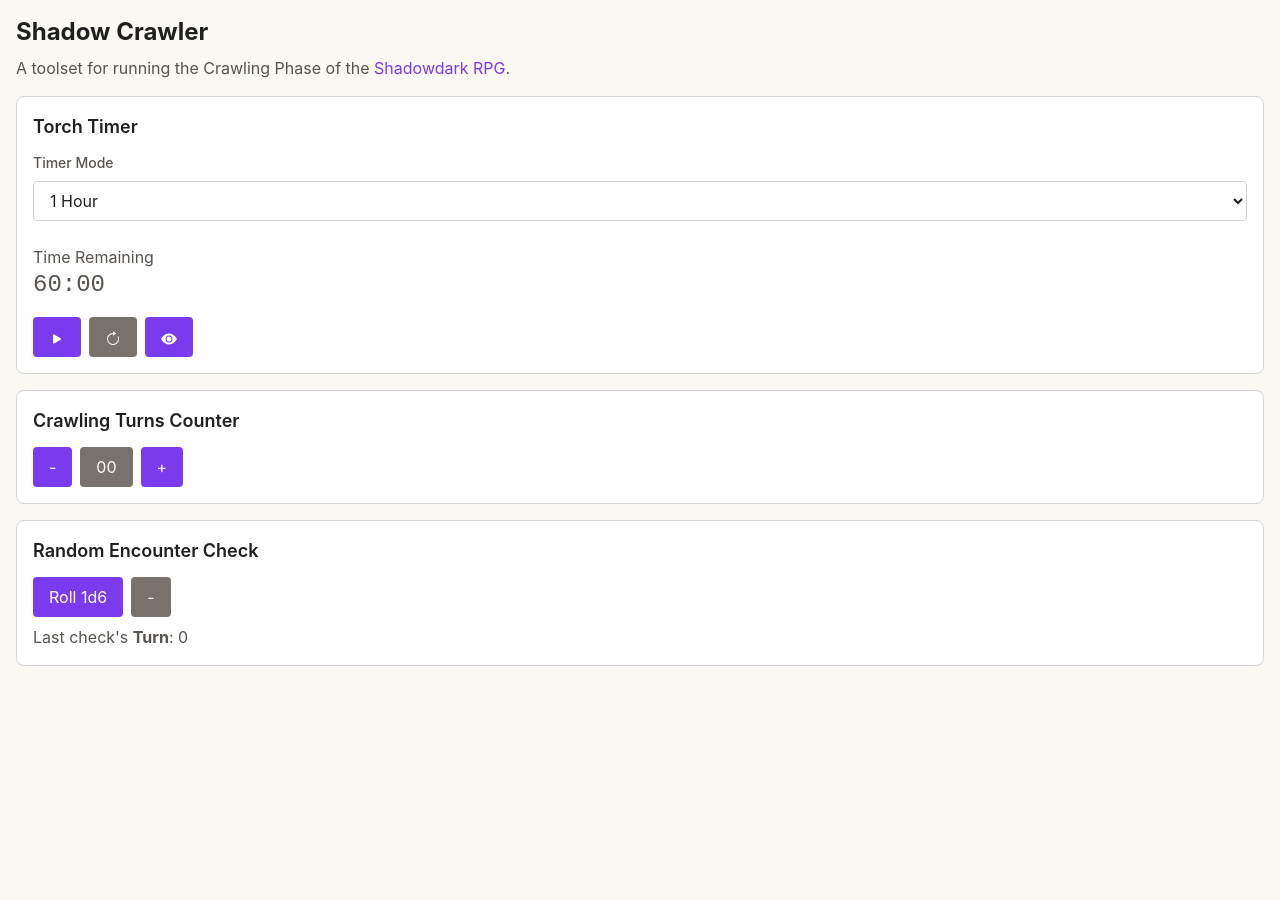
Test case: Main (Shadow Crawler) › changes mode to 10 Turns and increments torch turn
Select "10-turns" in the dropdown at (640, 201), box [33,181,1247,221]
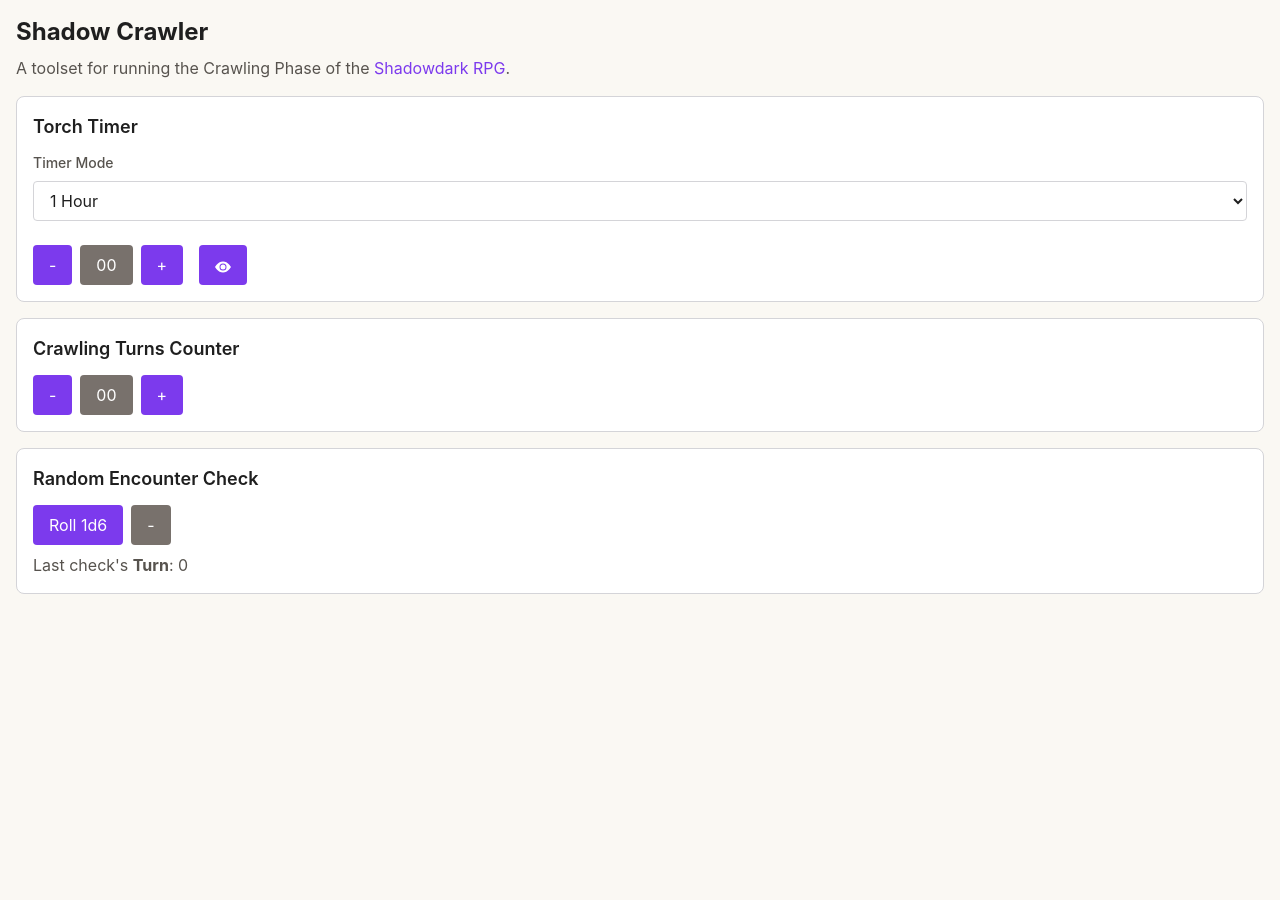
Check: the number of buttons "+" is 2
Note: Click the Torch Turn +
Click the button "+" below "Timer Mode" at (162, 265), box [140,245,183,285]
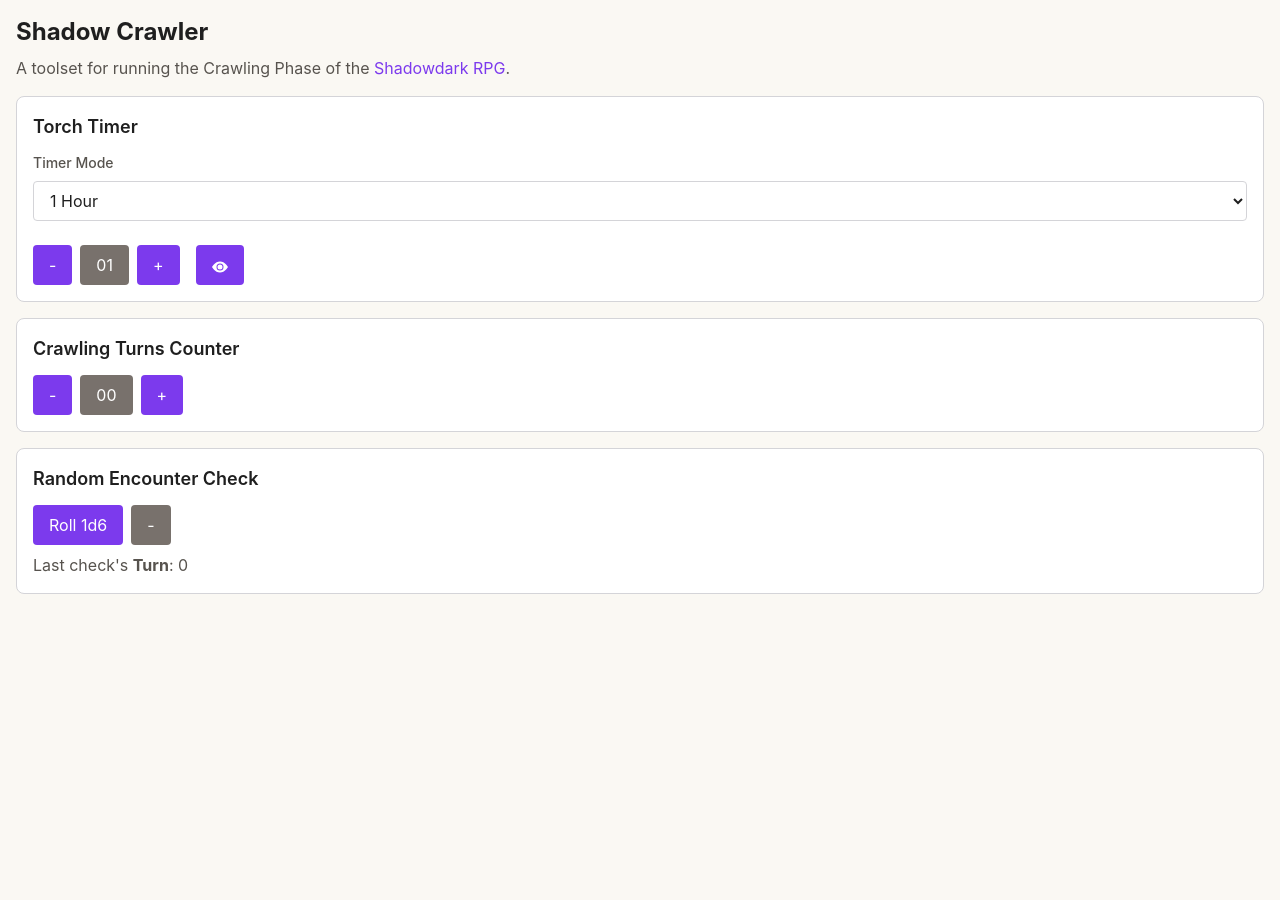
Check: the button "01" is shown, box [80,245,129,285]
